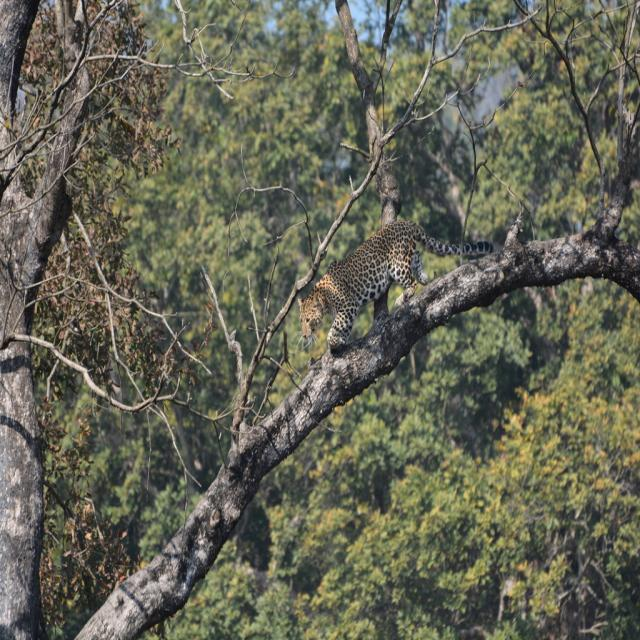Leopard: (298, 220, 494, 344)
